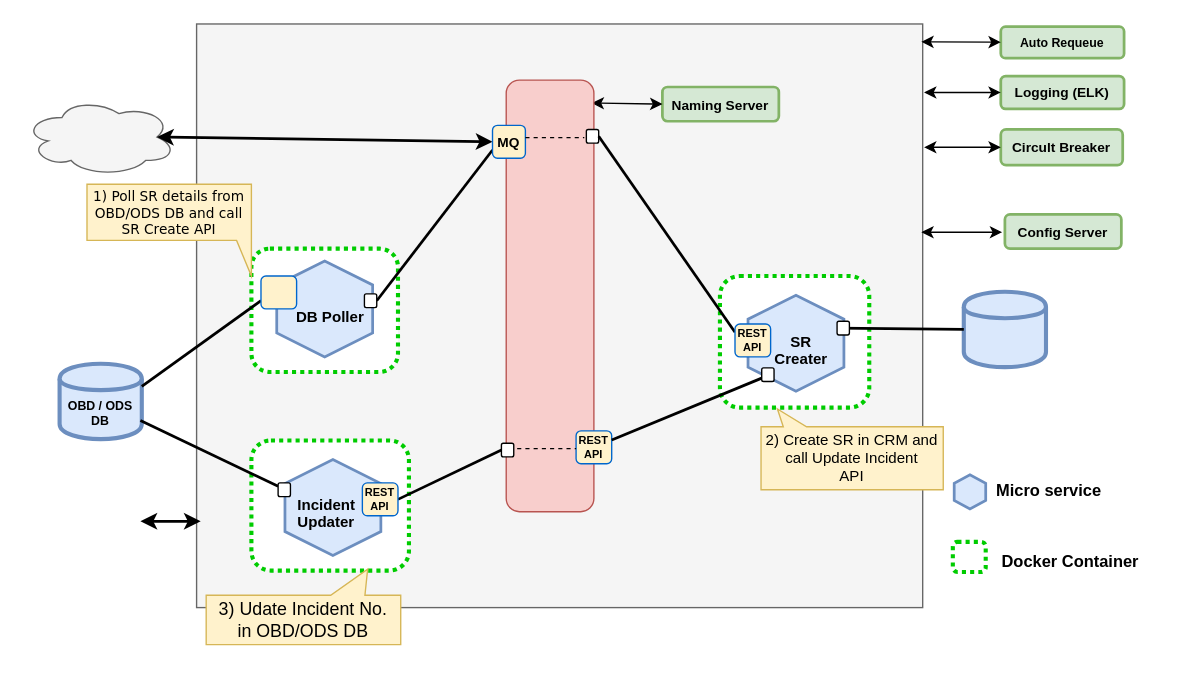
The diagram is 1181 pixels wide and 682 high, and some of its shapes have lost their labels. The shapes that lost their labels are listed below. From the top down, each one's box as (x1, y1, x2, y2) in pixels, then its label:
(23, 97, 176, 176): Consumer Channel
(260, 275, 297, 309): DB Event
(505, 79, 594, 512): API Gateway
(961, 289, 1047, 369): CRM DB
